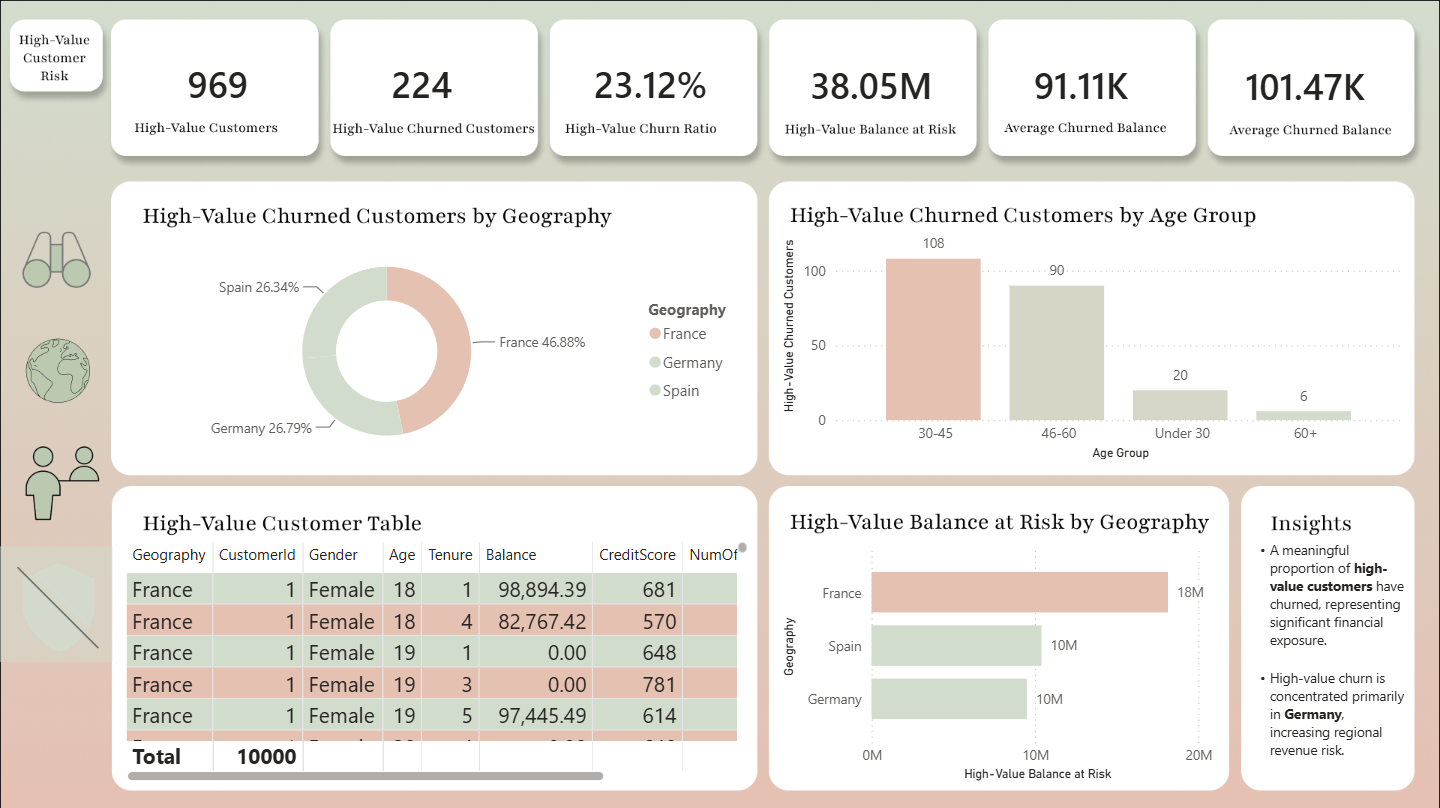

The dashboard page shown, as its layout file describes it:
{"tool":"powerbi","page":{"name":"High-Value Customer Risk","canvas":[1280,720],"ordinal":3},"visuals":[{"type":"cardVisual","fields":{"Data":["Measures (2).High-Value Customers"]},"box":[137.5,18.8,143.8,108.8],"z":0},{"type":"cardVisual","fields":{"Data":["Measures (2).High-Value Churned Customers"]},"box":[318.8,18.8,161.2,108.8],"z":1000},{"type":"cardVisual","fields":{"Data":["Measures (2).High-Value Churn Ratio"]},"box":[498.8,18.8,160,108.8],"z":2000},{"type":"cardVisual","fields":{"Data":["Measures (2).High-Value Balance at Risk"]},"box":[691.2,20,176.2,107.5],"z":3000},{"type":"cardVisual","fields":{"Data":["Measures (2).Average Churned Balance"]},"box":[890,20,182.5,108.8],"z":4000},{"type":"cardVisual","fields":{"Data":["Measures (2).Average Churned Salary"]},"box":[1077.5,21.2,176.2,108.8],"z":5000},{"type":"donutChart","fields":{"Category":["Bank_Customers.Geography"],"Y":["Measures (2).High-Value Churned Customers"]},"box":[106.2,211.2,562.5,202.5],"z":6000},{"type":"columnChart","fields":{"Category":["Bank_Customers.Age Group"],"Y":["Measures (2).High-Value Churned Customers"]},"box":[691.2,192.5,562.5,221.2],"z":7000},{"type":"tableEx","fields":{"Values":["Bank_Customers.Geography","CountNonNull(Bank_Customers.CustomerId)","Bank_Customers.Gender","Bank_Customers.Age","Bank_Customers.Tenure","Bank_Customers.Balance","Bank_Customers.CreditScore","Bank_Customers.NumOfProducts","Bank_Customers.Activity Status"]},"box":[106.2,476.2,562.5,222.5],"z":8000},{"type":"barChart","fields":{"Category":["Bank_Customers.Geography"],"Y":["Measures (2).High-Value Balance at Risk"]},"box":[691.2,476.2,396.2,222.5],"z":9000},{"type":"actionButton","box":[0,286.2,100,82.5],"z":10000},{"type":"actionButton","box":[0,387.7,100,82.3],"z":11000},{"type":"actionButton","box":[0,193,100,83],"z":12000},{"type":"actionButton","box":[0,485,100,103],"z":12001},{"type":"textbox","box":[1105.6,475.6,147.8,215.6],"z":12002}]}

Visuals, with their boxes in screenshot pixels (x1, y1, x2, y2), scaled from the page's 1280x720 canvas onto the 1440x808 screenshot:
cardVisual - Measures (2).High-Value Customers: pyautogui.locateOnScreen(155, 21, 316, 143)
cardVisual - Measures (2).High-Value Churned Customers: pyautogui.locateOnScreen(359, 21, 540, 143)
cardVisual - Measures (2).High-Value Churn Ratio: pyautogui.locateOnScreen(561, 21, 741, 143)
cardVisual - Measures (2).High-Value Balance at Risk: pyautogui.locateOnScreen(778, 22, 976, 143)
cardVisual - Measures (2).Average Churned Balance: pyautogui.locateOnScreen(1001, 22, 1207, 145)
cardVisual - Measures (2).Average Churned Salary: pyautogui.locateOnScreen(1212, 24, 1410, 146)
donutChart - Bank_Customers.Geography x Measures (2).High-Value Churned Customers: pyautogui.locateOnScreen(119, 237, 752, 464)
columnChart - Bank_Customers.Age Group x Measures (2).High-Value Churned Customers: pyautogui.locateOnScreen(778, 216, 1410, 464)
tableEx - Bank_Customers.Geography x CountNonNull(Bank_Customers.CustomerId): pyautogui.locateOnScreen(119, 534, 752, 784)
barChart - Bank_Customers.Geography x Measures (2).High-Value Balance at Risk: pyautogui.locateOnScreen(778, 534, 1223, 784)
actionButton: pyautogui.locateOnScreen(0, 321, 112, 414)
actionButton: pyautogui.locateOnScreen(0, 435, 112, 527)
actionButton: pyautogui.locateOnScreen(0, 217, 112, 310)
actionButton: pyautogui.locateOnScreen(0, 544, 112, 660)
textbox: pyautogui.locateOnScreen(1244, 534, 1410, 776)
